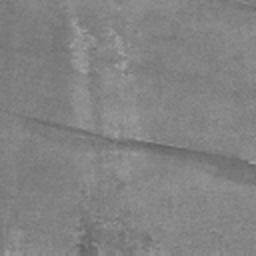Finishing roll printing: (6, 110, 256, 188)
